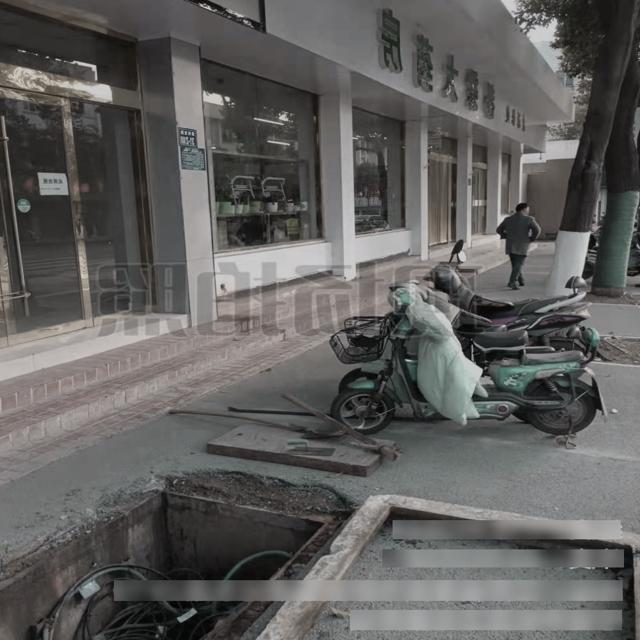lose: (0, 483, 346, 640)
